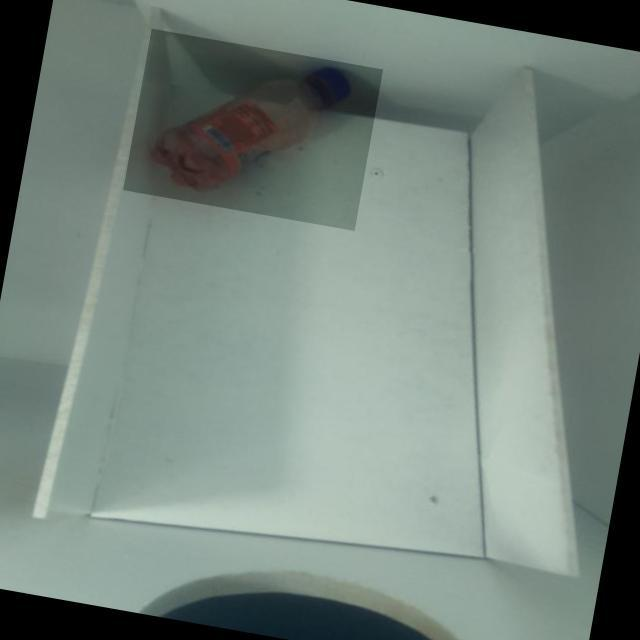good: (121, 27, 382, 229)
